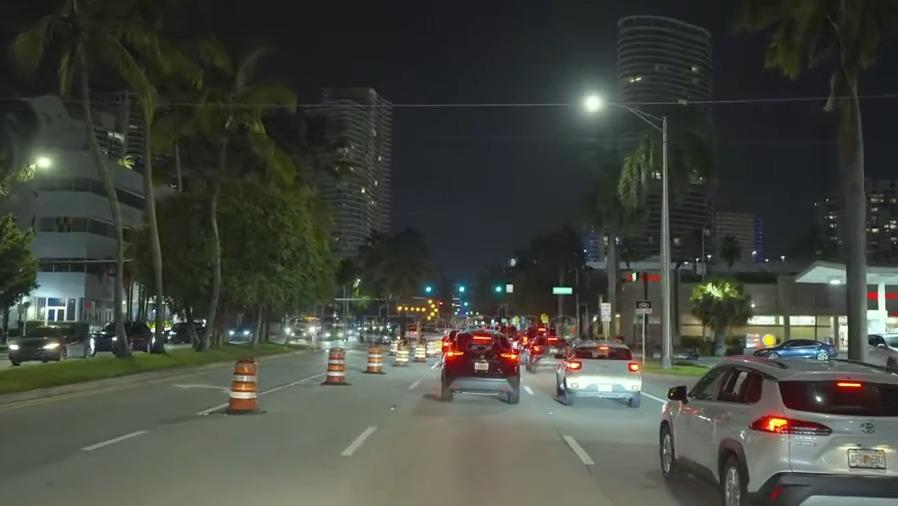arrow traffic sign: (396, 295, 442, 325)
car: (661, 351, 898, 506), (440, 329, 520, 403), (558, 337, 642, 406), (8, 323, 97, 365), (753, 335, 840, 363), (92, 319, 155, 351), (527, 332, 567, 371), (862, 330, 898, 372), (161, 319, 208, 344), (227, 322, 257, 341)
cone: (230, 355, 259, 413), (324, 344, 347, 383), (367, 342, 381, 375), (396, 339, 408, 366), (414, 343, 424, 359)
wheel: (656, 420, 683, 481), (719, 448, 743, 506)
